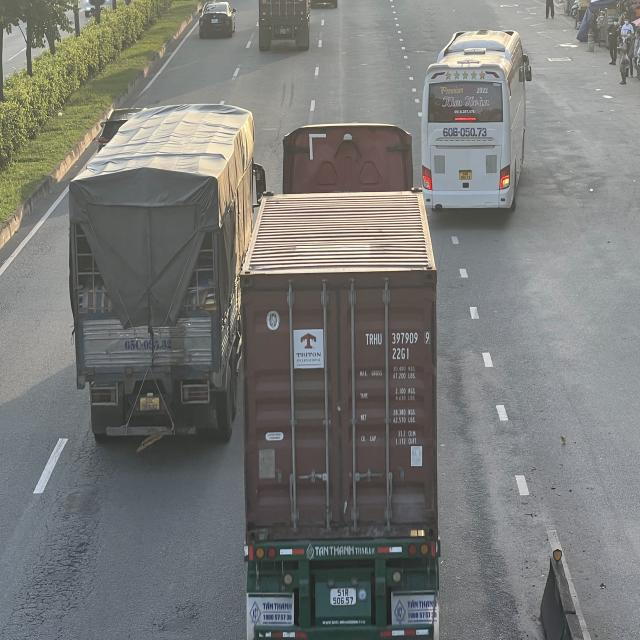car: (200, 0, 237, 38)
coach: (416, 34, 527, 220)
container: (244, 119, 443, 640)
truck: (70, 107, 268, 447)
